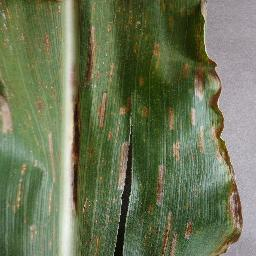Gray_Leaf_Spot: (66, 0, 136, 256), (208, 68, 240, 256), (131, 161, 191, 256), (124, 0, 186, 73), (182, 0, 207, 153), (10, 0, 62, 69), (41, 126, 56, 220), (34, 72, 61, 117), (14, 163, 34, 211), (0, 0, 16, 50), (22, 112, 42, 152), (21, 218, 48, 247), (162, 102, 181, 134), (0, 81, 10, 137), (128, 72, 146, 96), (169, 141, 185, 160), (139, 104, 152, 122)
